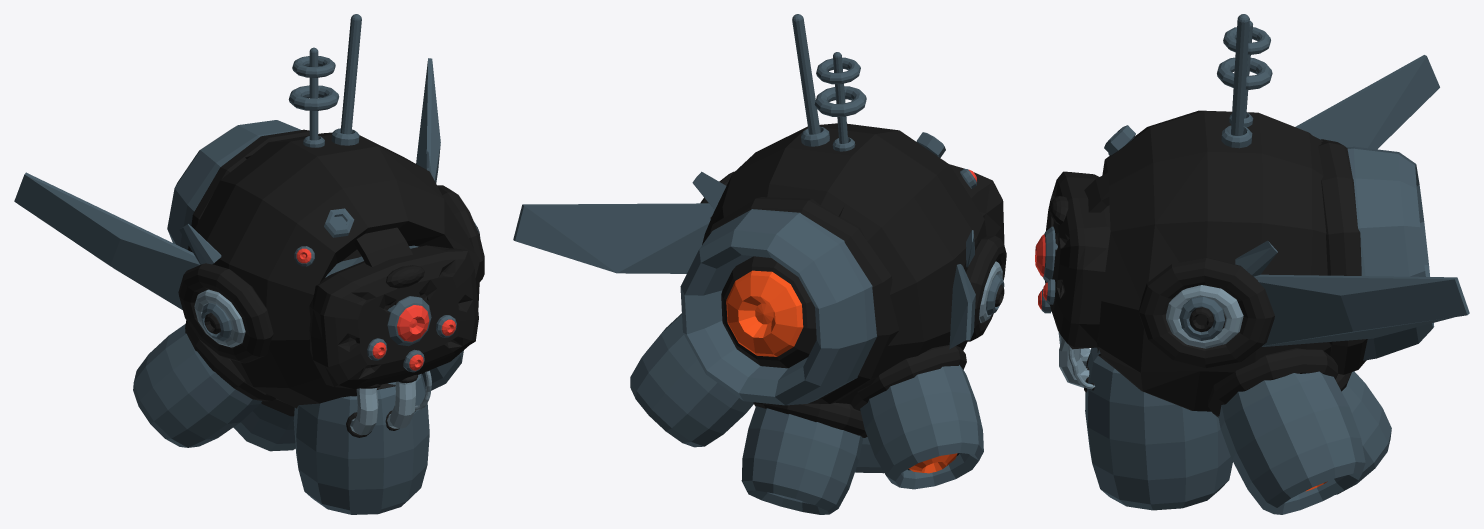
Rendered from unit.glb.
The picture shows the model from 3 angles, left to right: view 1: azimuth 30°, elevation 25°; view 2: azimuth 150°, elevation 25°; view 3: azimuth 270°, elevation 25°; orthographic projection. The views are drawn at different scales.
Visible parts, largest first — view 1: group579868033, group1629524082, group950745974, group935379014, group340555124, group1880070904, group1900377273, group1435881417, group1512876906, group1574620923, group606704065, group1273343276 (+11 smaller); view 2: group579868033, group1900377273, group1574620923, group935379014, group1512876906, group1384654718, group436029164, group855398246, group1435881417, group1622754454, group606704065, group1880070904 (+5 smaller); view 3: group579868033, group436029164, group950745974, group1574620923, group1900377273, group1629524082, group2073936651, group340555124, group855398246, group268984946, group1512876906, group2090845167 (+7 smaller).
Boxes of the visible parts, bbox=[...] form: group579868033: bbox=[190, 132, 479, 408]; group1629524082: bbox=[245, 155, 478, 389]; group950745974: bbox=[293, 373, 429, 514]; group935379014: bbox=[133, 324, 261, 447]; group340555124: bbox=[14, 172, 200, 309]; group1880070904: bbox=[178, 263, 273, 363]; group1900377273: bbox=[167, 120, 300, 249]; group1435881417: bbox=[288, 47, 339, 147]; group1512876906: bbox=[233, 403, 295, 451]; group1574620923: bbox=[416, 58, 440, 183]; group606704065: bbox=[331, 14, 361, 145]; group1273343276: bbox=[387, 296, 431, 346]; group579868033: bbox=[702, 123, 986, 404]; group1900377273: bbox=[680, 209, 877, 405]; group1574620923: bbox=[513, 203, 714, 273]; group935379014: bbox=[860, 365, 983, 489]; group1512876906: bbox=[741, 406, 863, 514]; group1384654718: bbox=[721, 256, 816, 368]; group436029164: bbox=[630, 313, 753, 447]; group855398246: bbox=[707, 197, 898, 403]; group1435881417: bbox=[814, 52, 866, 151]; group1622754454: bbox=[851, 345, 966, 411]; group606704065: bbox=[792, 14, 829, 146]; group1880070904: bbox=[964, 235, 1006, 341]; group579868033: bbox=[1097, 110, 1330, 411]; group436029164: bbox=[1218, 371, 1365, 514]; group950745974: bbox=[1085, 347, 1232, 510]; group1574620923: bbox=[1254, 274, 1469, 346]; group1900377273: bbox=[1346, 146, 1434, 360]; group1629524082: bbox=[1045, 136, 1322, 349]; group2073936651: bbox=[1138, 257, 1274, 368]; group340555124: bbox=[1295, 55, 1439, 149]; group855398246: bbox=[1318, 139, 1367, 374]; group268984946: bbox=[1208, 348, 1338, 417]; group1512876906: bbox=[1335, 371, 1391, 494]; group2090845167: bbox=[1166, 285, 1243, 348].
Bounding box in the file's own units: 2.82 × 2.81 × 2.23.
